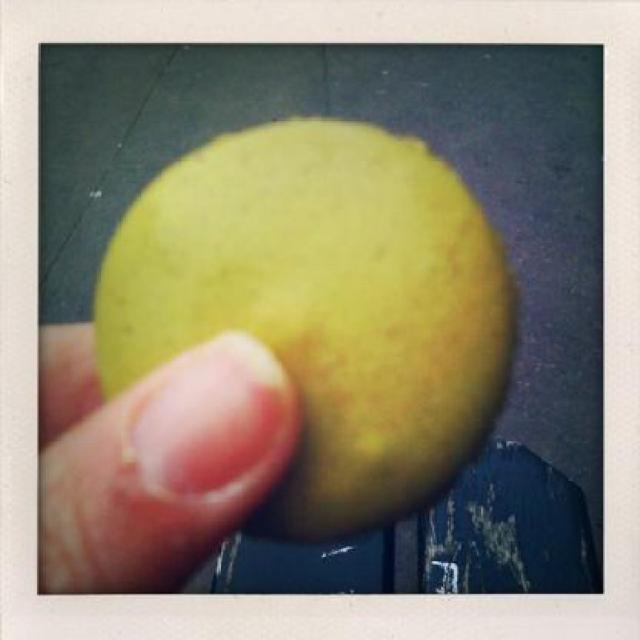Macaron: (87, 110, 530, 548)
